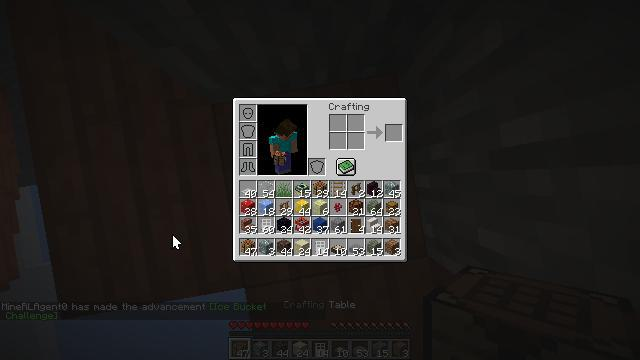cursor: (234, 172, 250, 182)
